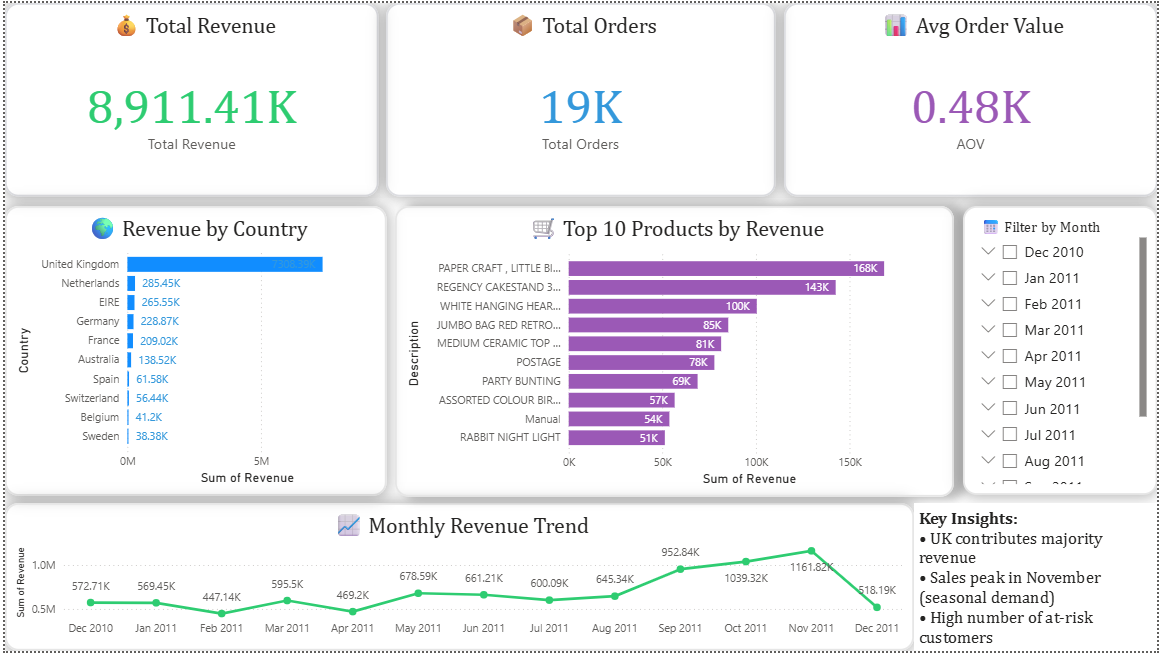

The page's visual inventory and layout, read from the dashboard file:
{"tool":"powerbi","page":{"name":"Page 1","canvas":[1280,720],"ordinal":0},"visuals":[{"type":"card","title":"💰 Total Revenue","fields":{"Values":["cleaned_ecommerce_data.Total Revenue"]},"box":[0,0,415,215],"z":0},{"type":"card","title":"📦 Total Orders","fields":{"Values":["cleaned_ecommerce_data.Total Orders"]},"box":[423.8,0,432.5,215],"z":1000},{"type":"card","title":"📊 Avg Order Value","fields":{"Values":["cleaned_ecommerce_data.AOV"]},"box":[865,0,415,215],"z":2000},{"type":"clusteredBarChart","title":"🌍 Revenue by Country","fields":{"Category":["cleaned_ecommerce_data.Country"],"Y":["Sum(cleaned_ecommerce_data.Revenue)"]},"box":[0,226,424,322],"z":3000},{"type":"lineChart","title":"📈 Monthly Revenue Trend","fields":{"Y":["Sum(cleaned_ecommerce_data.Revenue)"],"Category":["cleaned_ecommerce_data.MonthYear"]},"box":[0,555.6,1010,164.4],"z":4000},{"type":"clusteredBarChart","title":"🛒 Top 10 Products by Revenue","fields":{"Category":["cleaned_ecommerce_data.Description"],"Y":["Sum(cleaned_ecommerce_data.Revenue)"]},"box":[433.3,225.6,621.1,323.3],"z":5000},{"type":"slicer","fields":{"Values":["cleaned_ecommerce_data.MonthYear","cleaned_ecommerce_data.Country"]},"box":[1064.4,225.6,215.6,321.1],"z":6000},{"type":"textbox","box":[1010,555.6,270,164.4],"z":7000}]}

Visuals, with their boxes in screenshot pixels (x1, y1, x2, y2), scaled from the page's 1280x720 canvas onto the 1163x657 screenshot:
"💰 Total Revenue" card: rect(0, 0, 377, 196)
"📦 Total Orders" card: rect(385, 0, 778, 196)
"📊 Avg Order Value" card: rect(786, 0, 1162, 196)
"🌍 Revenue by Country" clusteredBarChart: rect(0, 206, 385, 500)
"📈 Monthly Revenue Trend" lineChart: rect(0, 507, 918, 656)
"🛒 Top 10 Products by Revenue" clusteredBarChart: rect(394, 206, 958, 501)
slicer - cleaned_ecommerce_data.MonthYear x cleaned_ecommerce_data.Country: rect(967, 206, 1162, 499)
textbox: rect(918, 507, 1162, 656)
